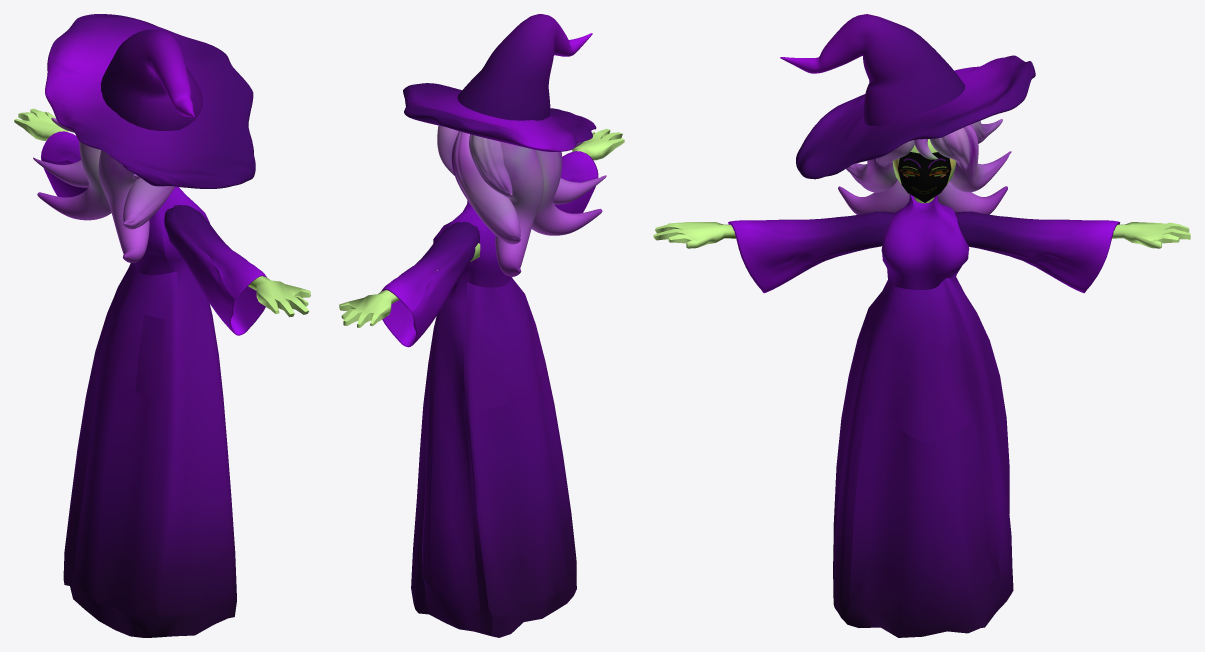
The model's file is ведьма.fbx.
3 renders of one model, left to right at view 1: azimuth 30°, elevation 25°; view 2: azimuth 150°, elevation 25°; view 3: azimuth 270°, elevation 25°, orthographic. The views are drawn at different scales.
Visible parts, largest first — view 1: Cube.005, Cylinder.001, Cube.006, Tube, Tube.001, Cube.007; view 2: Cube.005, Tube.001, Tube, Cube.006, Cylinder.001, Cube.007; view 3: Cube.005, Cube.006, Cylinder.001, Tube, Tube.001, Cube.007, Icosphere.002.
Boxes of the visible parts, x1=… form: Cube.005: x1=63, y1=186, x2=236, y2=637; Cylinder.001: x1=45, y1=14, x2=255, y2=188; Cube.006: x1=41, y1=131, x2=266, y2=335; Tube: x1=101, y1=29, x2=202, y2=131; Tube.001: x1=33, y1=117, x2=175, y2=262; Cube.007: x1=14, y1=108, x2=310, y2=317; Cube.005: x1=411, y1=200, x2=576, y2=637; Tube.001: x1=437, y1=125, x2=606, y2=276; Tube: x1=457, y1=14, x2=592, y2=120; Cube.006: x1=381, y1=151, x2=598, y2=347; Cylinder.001: x1=403, y1=83, x2=596, y2=151; Cube.007: x1=339, y1=128, x2=624, y2=327; Cube.005: x1=833, y1=194, x2=1013, y2=637; Cube.006: x1=728, y1=211, x2=1120, y2=293; Cylinder.001: x1=796, y1=55, x2=1035, y2=179; Tube: x1=780, y1=14, x2=965, y2=125; Tube.001: x1=838, y1=119, x2=1011, y2=214; Cube.007: x1=653, y1=222, x2=1190, y2=248; Icosphere.002: x1=898, y1=152, x2=951, y2=202.
Bounding box in the file's own units: 429 × 1422 × 1187.
10 materials, 1 textured.
